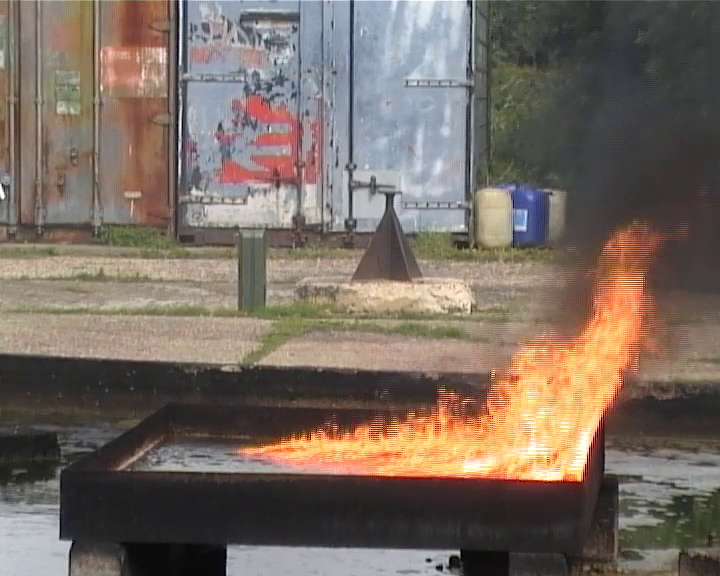fire: (252, 279, 643, 482)
